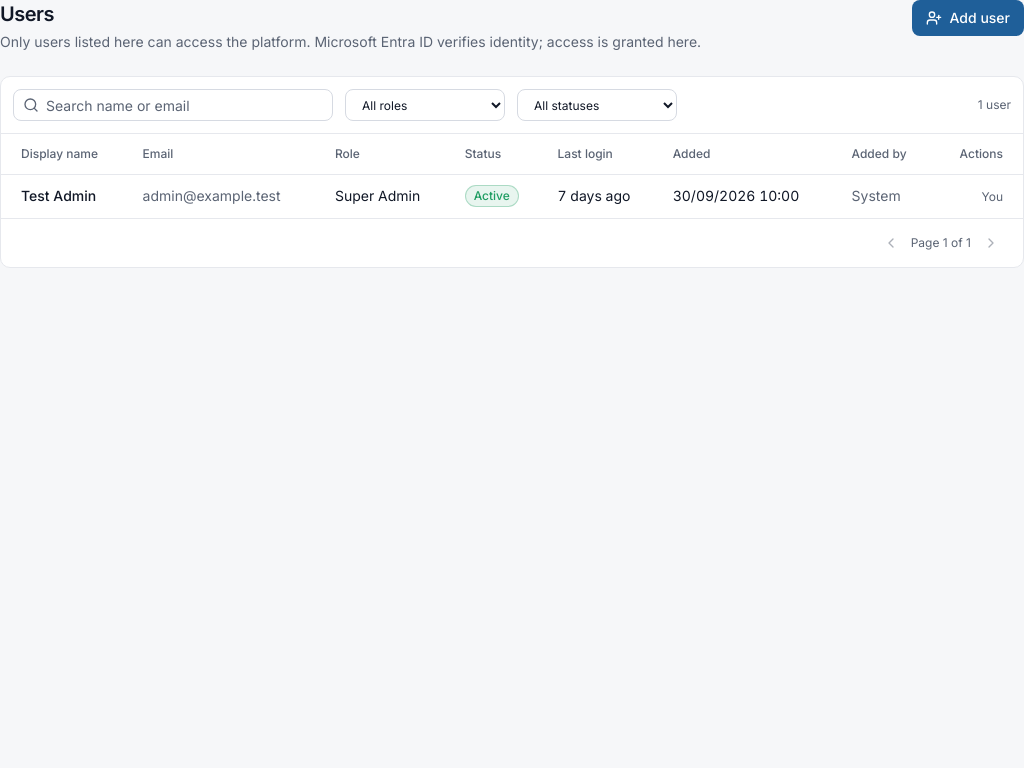
Users page › adds a user as a pending invitation
Click the button "Add user" at {"x": 968, "y": 18}, box [912,0,1023,36]
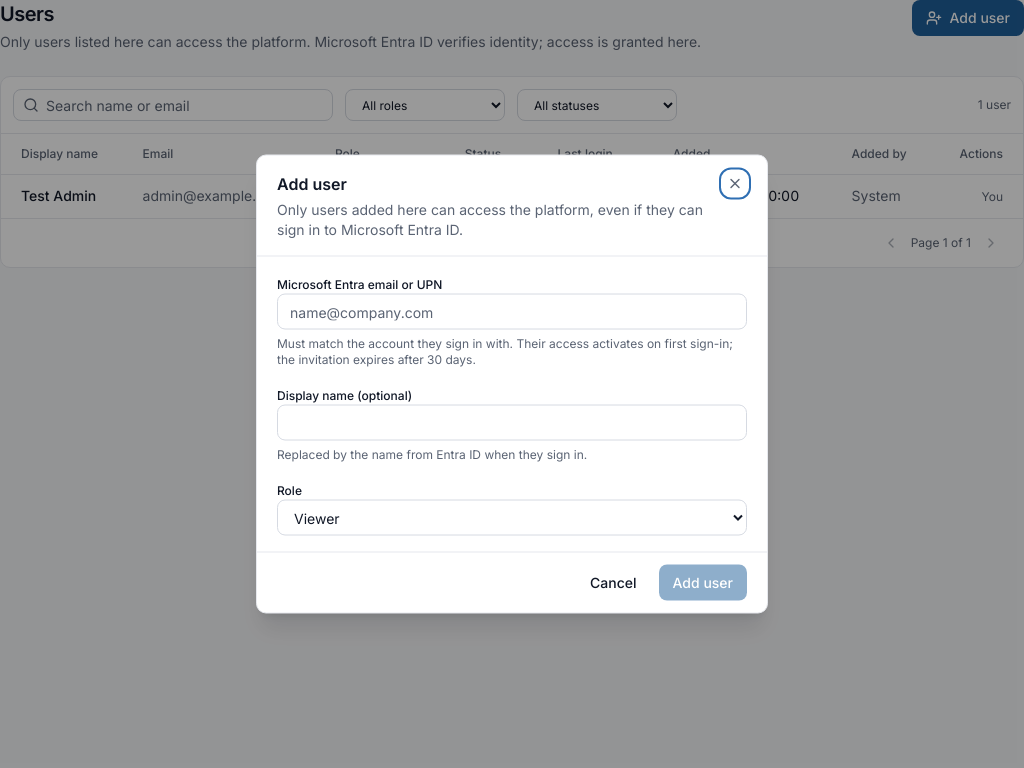
Check: the button "Add user" is disabled, box [658,564,747,600]
Type "new@example.test" into the field labelled "Microsoft Entra email or UPN" at {"x": 512, "y": 312}, box [277,294,747,330]
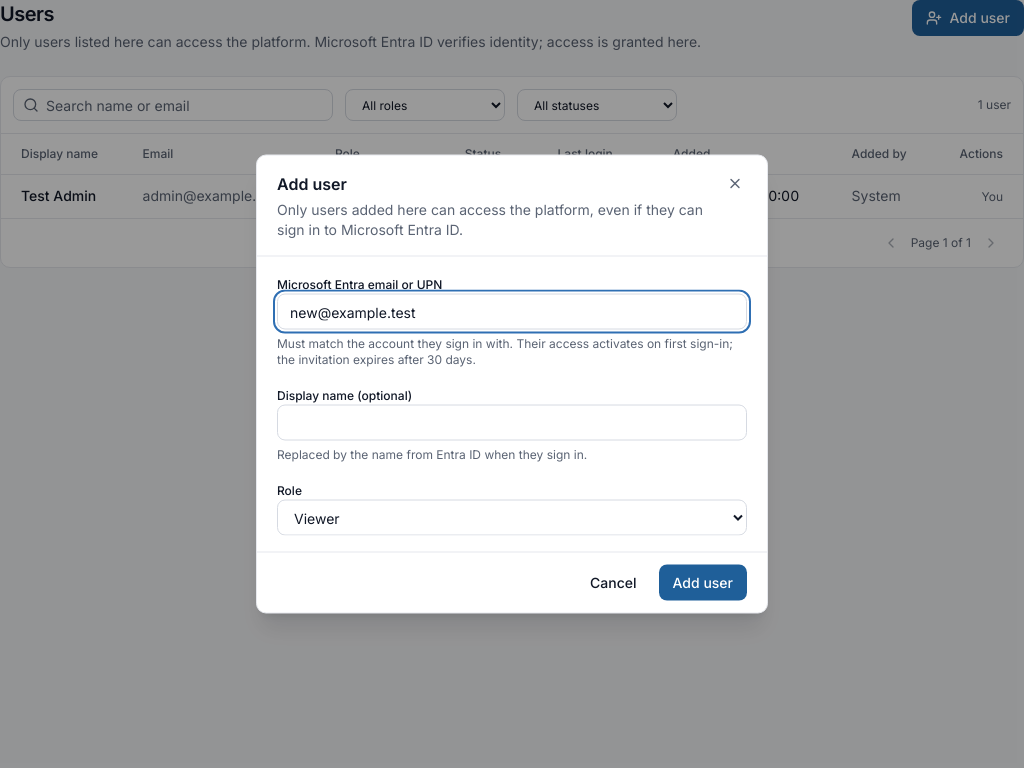
Select "Operator" in the dropdown labelled "Role" at {"x": 512, "y": 518}, box [277,500,747,536]
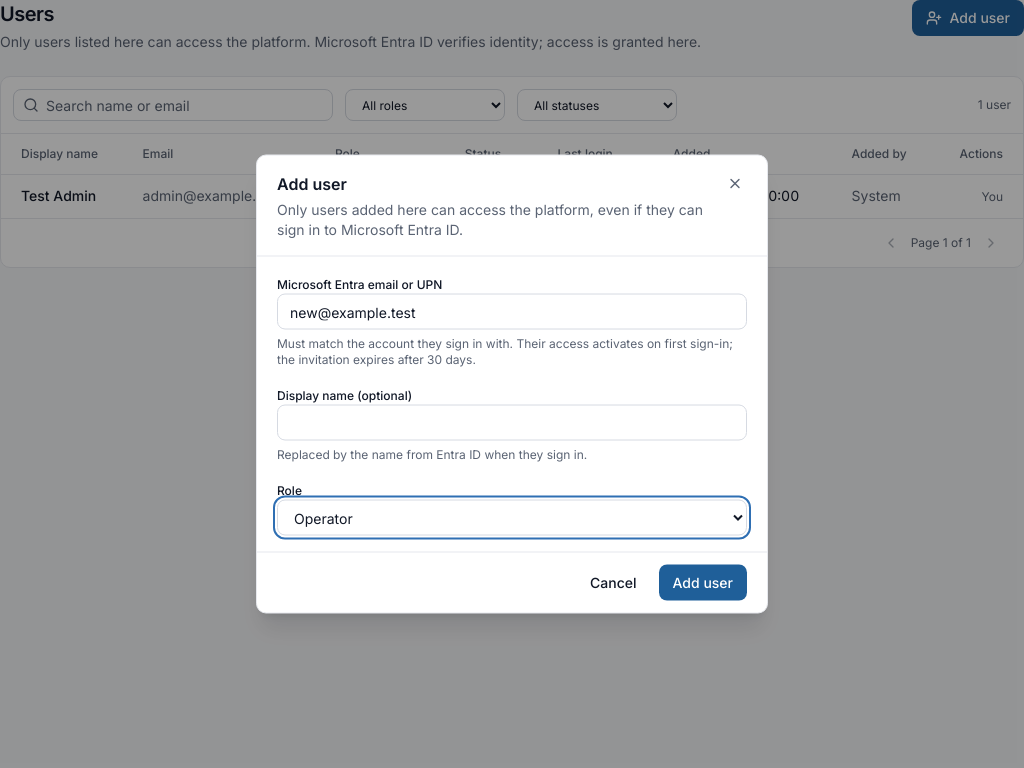
Click the button "Add user" at {"x": 703, "y": 582}, box [658,564,747,600]
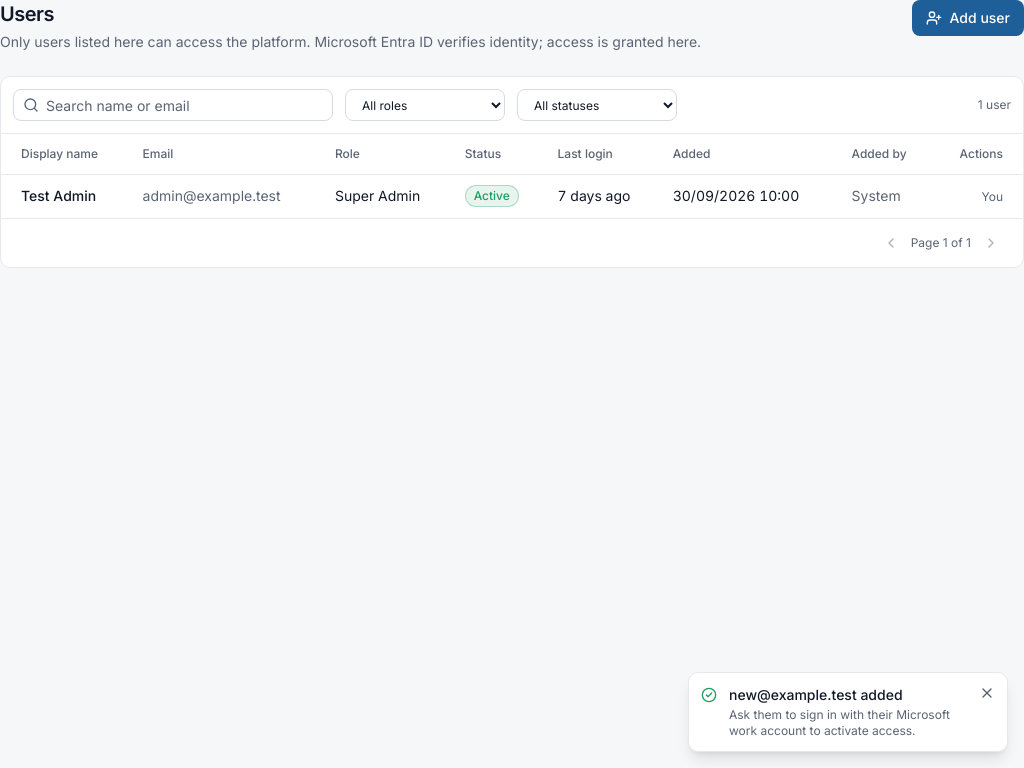
Check: the text "new@example.test added" is shown, box [729,686,902,703]
